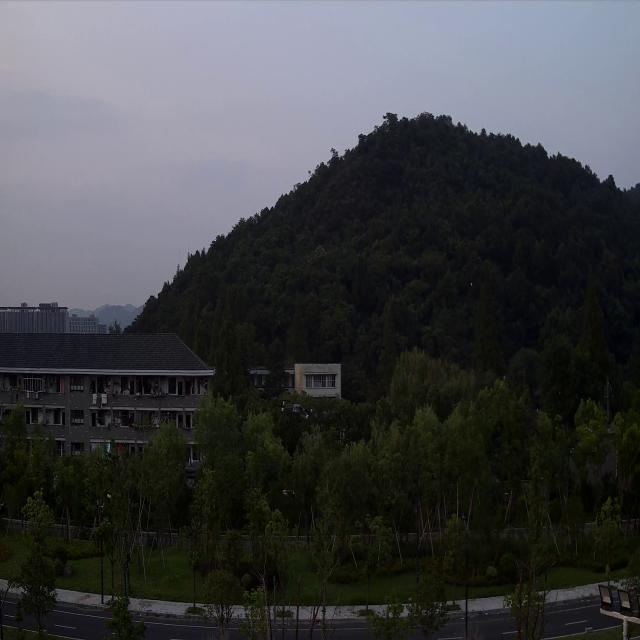UAV: (279, 399, 316, 421)
